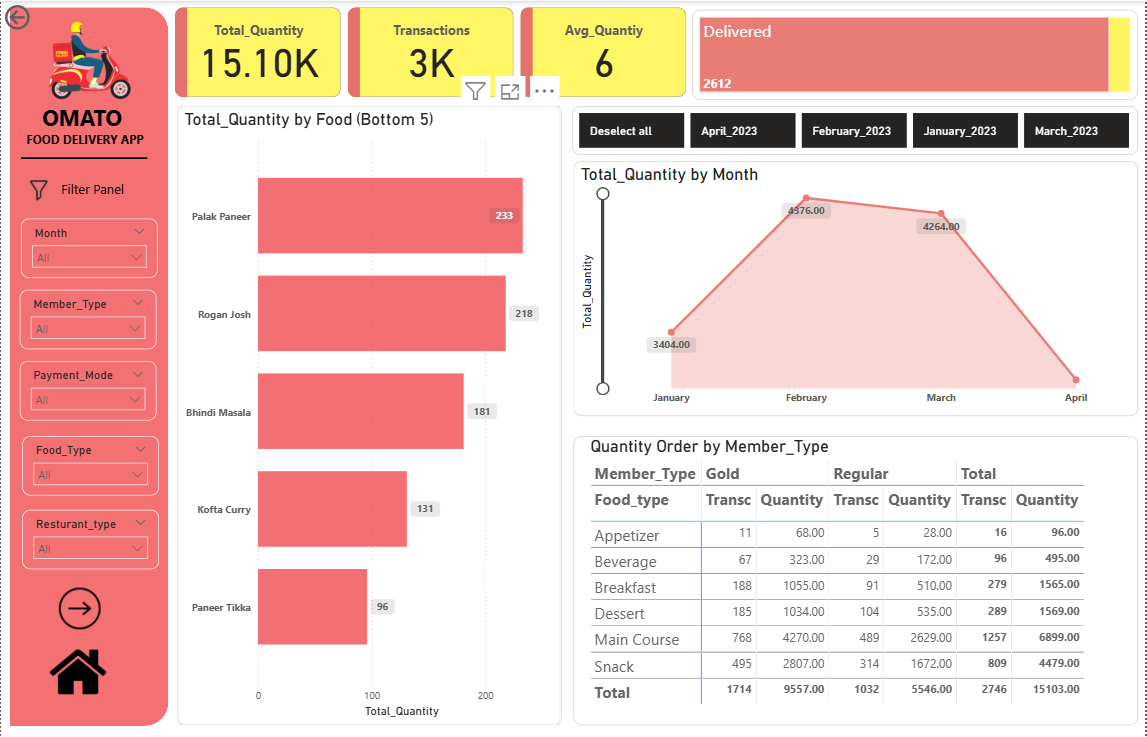

Layout of this report page (visuals, bound fields, positions):
{"tool":"powerbi","page":{"name":"Bottom Analysis_Dashboard","canvas":[1400,900],"ordinal":1},"visuals":[{"type":"shape","box":[11,7,194,879],"z":0},{"type":"textbox","box":[9,118.6,187.6,70.5],"z":1000},{"type":"image","box":[45,7.5,129.1,130.6],"z":2000},{"type":"image","box":[28.8,172.9,34.3,118],"z":3000},{"type":"textbox","box":[50.8,214.1,123.5,31.6],"z":4000},{"type":"shape","box":[24.9,174.6,154.3,35.9],"z":5000},{"type":"cardVisual","fields":{"Data":["Sales Data.Total_Quantity","Sales Data.Transactions","Sales Data.Avg_Quantiy"]},"box":[208.3,8.3,636.7,110],"z":6000},{"type":"clusteredBarChart","title":"Total_Quantity by Food (Bottom 5)","fields":{"Category":["Food_Details.Food"],"Y":["Sales Data.Total_Quantity"]},"box":[215,128.3,470,756.7],"z":7000},{"type":"stackedAreaChart","fields":{"Category":["Sales Data.orderDate.Variation.Date Hierarchy.Month"],"Y":["Sales Data.Total_Quantity"]},"box":[700,195,690,311.7],"z":8000},{"type":"pivotTable","title":"Quantity Order by Member_Type","fields":{"Columns":["Customer Details.member_Type"],"Rows":["Food_Details.Type"],"Values":["Sales Data.Transactions","Sales Data.Total_Quantity"]},"box":[700,531.7,690,353.3],"z":9000},{"type":"actionButton","box":[0,0,100,40],"z":10000},{"type":"slicer","fields":{"Values":["Sales Data.orderDate.Variation.Date Hierarchy.Month"]},"box":[23.8,266.2,167.5,72.5],"z":11000},{"type":"slicer","fields":{"Values":["Customer Details.member_Type"]},"box":[22.9,352.9,167.1,72.9],"z":12000},{"type":"slicer","fields":{"Values":["Sales Data.payment_method"]},"box":[22.9,440,167.1,72.9],"z":13000},{"type":"slicer","fields":{"Values":["Food_Details.Type"]},"box":[25.7,531.4,167.1,72.9],"z":14000},{"type":"slicer","fields":{"Values":["Resturant_Details.Resturant_type"]},"box":[25.7,621.4,167.1,72.9],"z":15000},{"type":"image","box":[62.9,708.6,67.1,67.1],"z":16000},{"type":"image","box":[55.7,780,78.6,81.4],"z":17000},{"type":"advancedSlicerVisual","fields":{"Values":["Sales Data.Month and Year"]},"box":[698.3,128.3,691.7,60],"z":18000},{"type":"treemap","fields":{"Group":["Sales Data.deliver_status"],"Values":["Sales Data.Transactions"]},"box":[845,10,545,110],"z":19000}]}

Visuals, with their boxes in screenshot pixels (x1, y1, x2, y2), scaled from the page's 1400x900 canvas onto the 1147x737 screenshot:
shape: detection(9, 6, 168, 726)
textbox: detection(7, 97, 161, 155)
image: detection(37, 6, 143, 113)
image: detection(24, 142, 52, 238)
textbox: detection(42, 175, 143, 201)
shape: detection(20, 143, 147, 172)
cardVisual - Sales Data.Total_Quantity x Sales Data.Transactions: detection(171, 7, 692, 97)
"Total_Quantity by Food (Bottom 5)" clusteredBarChart: detection(176, 105, 561, 725)
stackedAreaChart - Sales Data.orderDate.Variation.Date Hierarchy.Month x Sales Data.Total_Quantity: detection(574, 160, 1139, 415)
"Quantity Order by Member_Type" pivotTable: detection(574, 435, 1139, 725)
actionButton: detection(0, 0, 82, 33)
slicer - Sales Data.orderDate.Variation.Date Hierarchy.Month: detection(19, 218, 157, 277)
slicer - Customer Details.member_Type: detection(19, 289, 156, 349)
slicer - Sales Data.payment_method: detection(19, 360, 156, 420)
slicer - Food_Details.Type: detection(21, 435, 158, 495)
slicer - Resturant_Details.Resturant_type: detection(21, 509, 158, 569)
image: detection(52, 580, 107, 635)
image: detection(46, 639, 110, 705)
advancedSlicerVisual - Sales Data.Month and Year: detection(572, 105, 1139, 154)
treemap - Sales Data.deliver_status x Sales Data.Transactions: detection(692, 8, 1139, 98)
